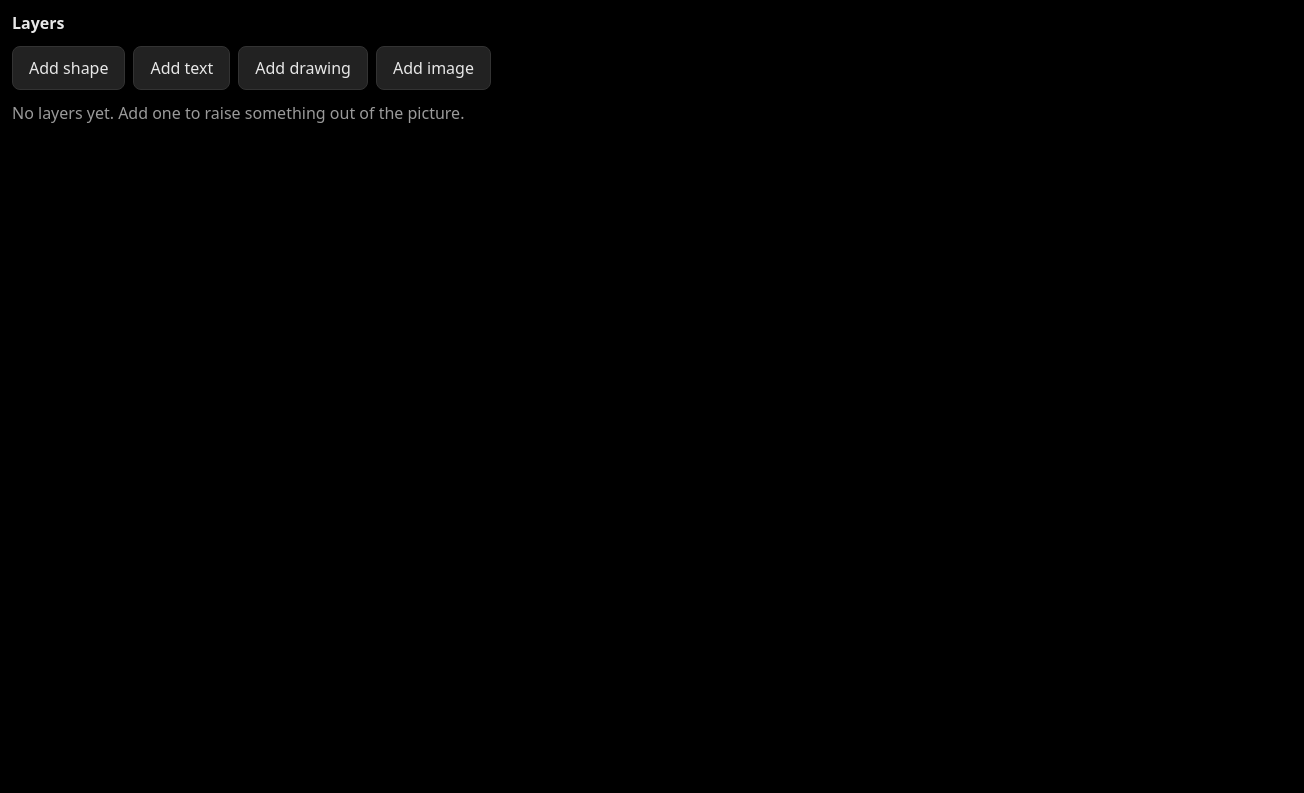
Test: edits font, size, position and edge
The width and height of the screenshot is (1304, 793).
Click the button "Add text": x=182, y=68 134,46 -> 230,90
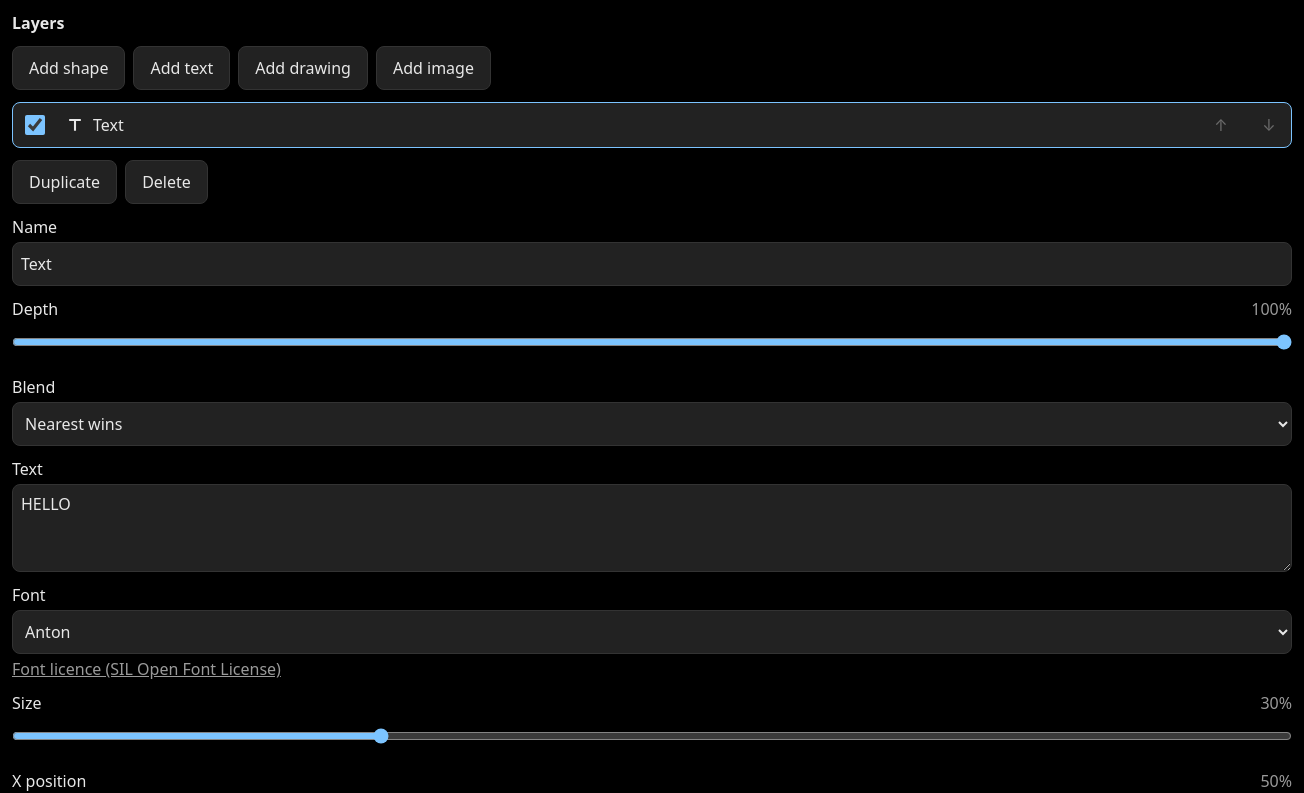
Select "Alfa Slab One" in the dropdown labelled "Font": x=652, y=632 12,610 -> 1292,654
Set the slider labelled "Size" to "0.5": x=639, y=736 12,714 -> 1292,758
(page scrolled)
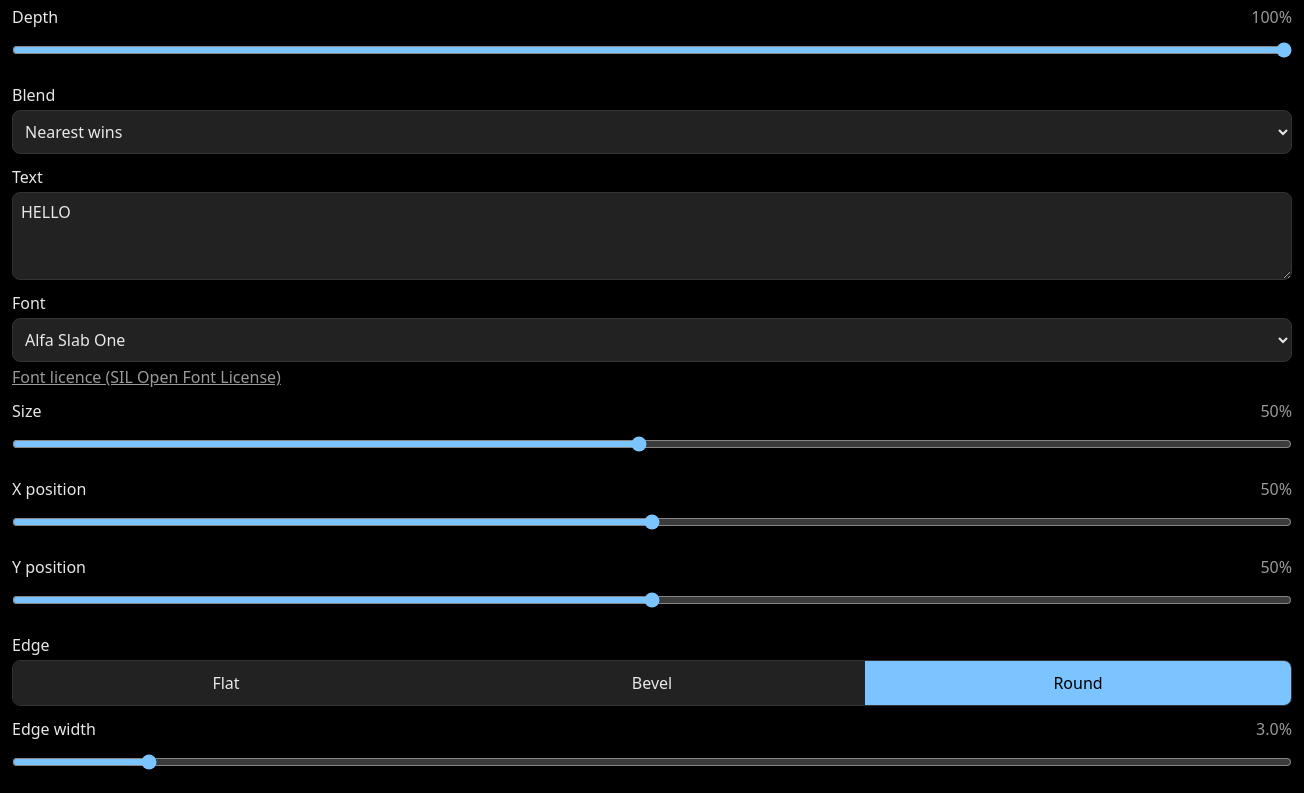
Set the slider labelled "Y position" to "0.2": x=273, y=600 12,578 -> 1292,622
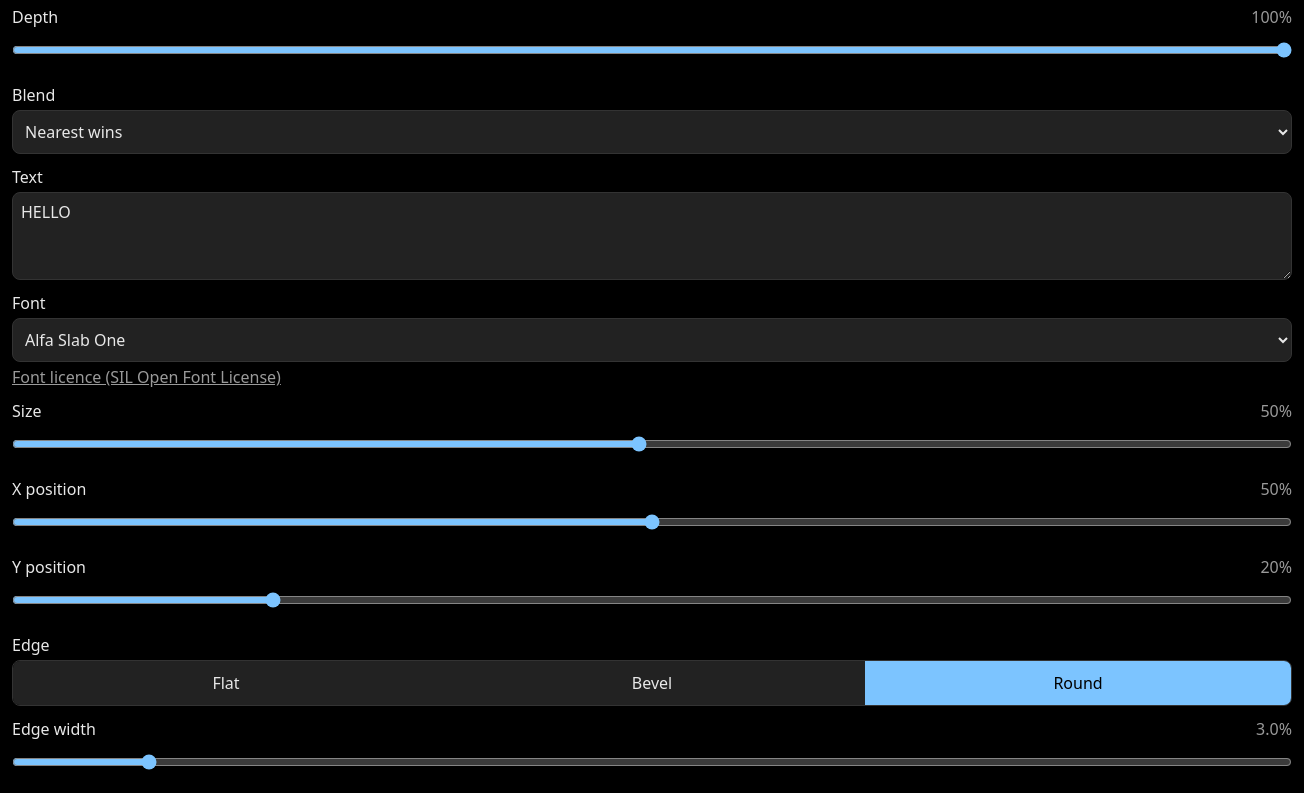
Click the radio button labelled "Bevel": x=652, y=683 439,661 -> 865,705
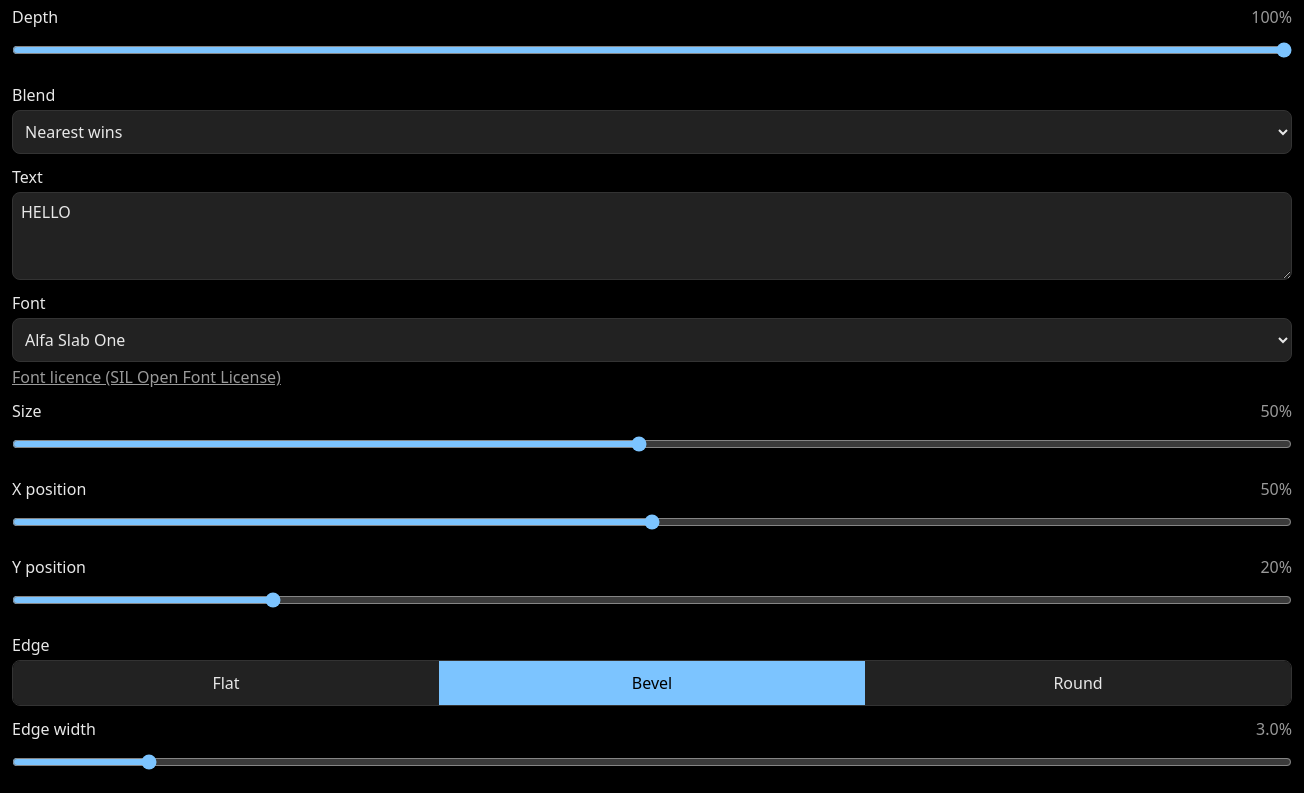
Set the slider labelled "Edge width" to "0.1": x=510, y=762 12,740 -> 1292,784
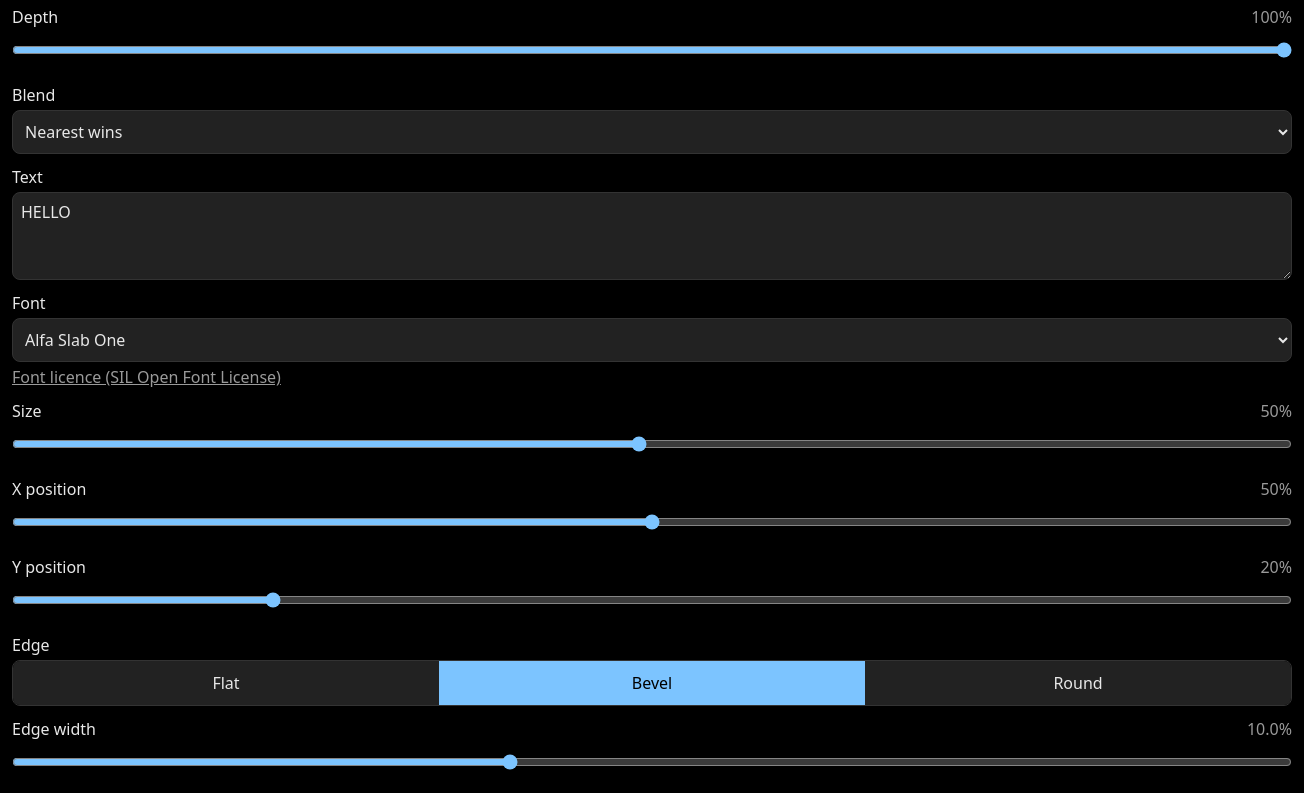
Click the radio button labelled "Flat": x=226, y=683 13,661 -> 439,705
(page scrolled)
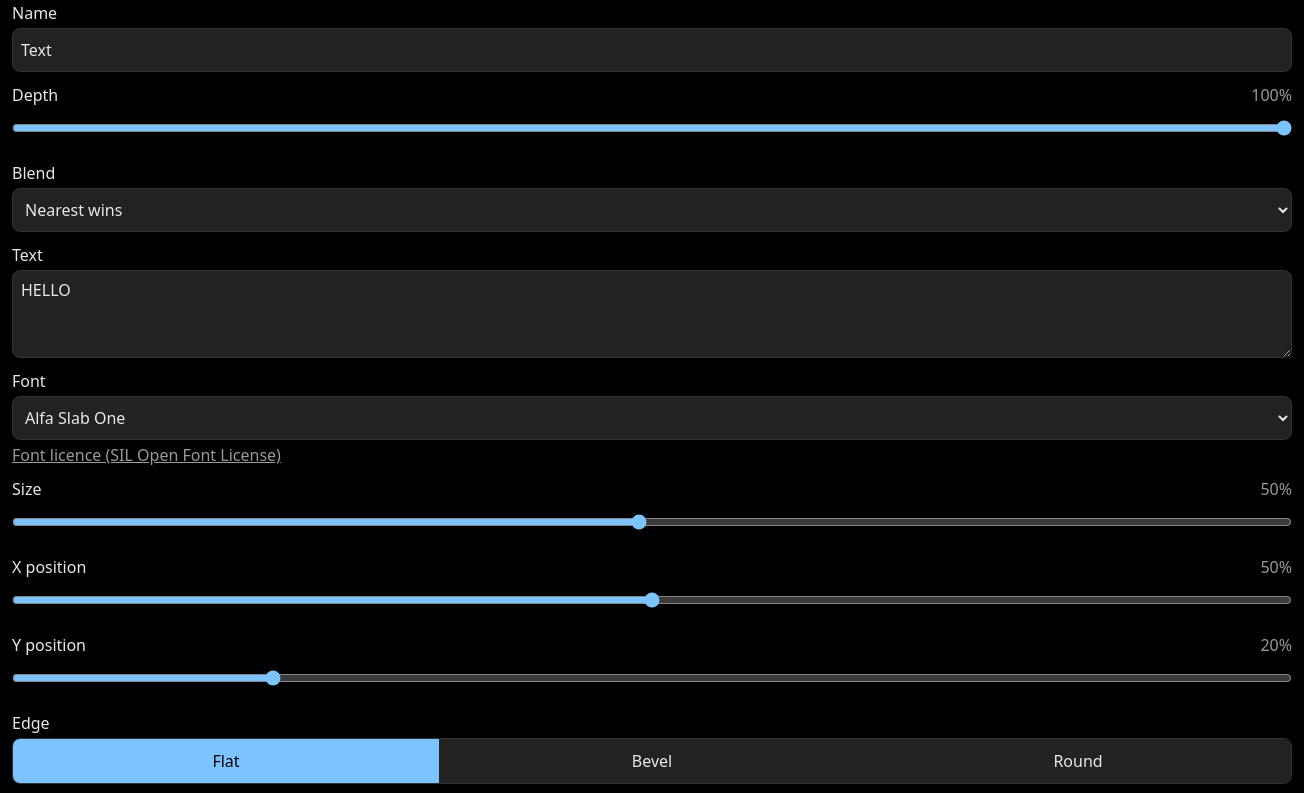
Now the label "Edge width" is gone
